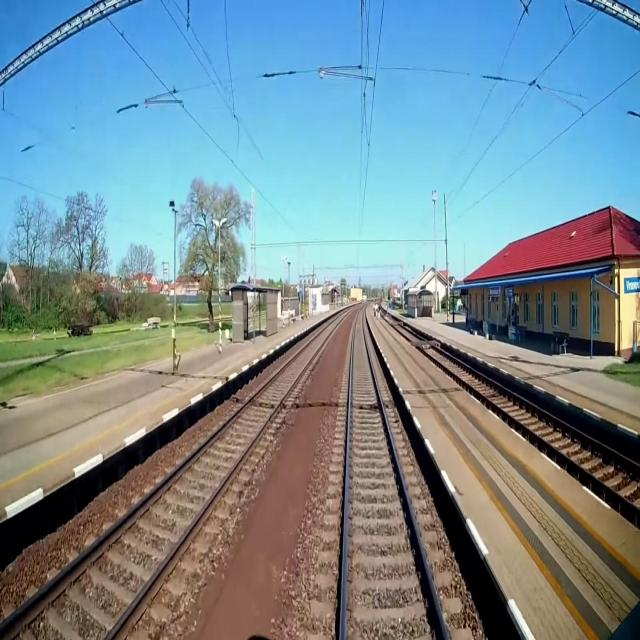rail-track: (0, 317, 340, 639), (385, 315, 640, 504), (345, 308, 445, 639)
